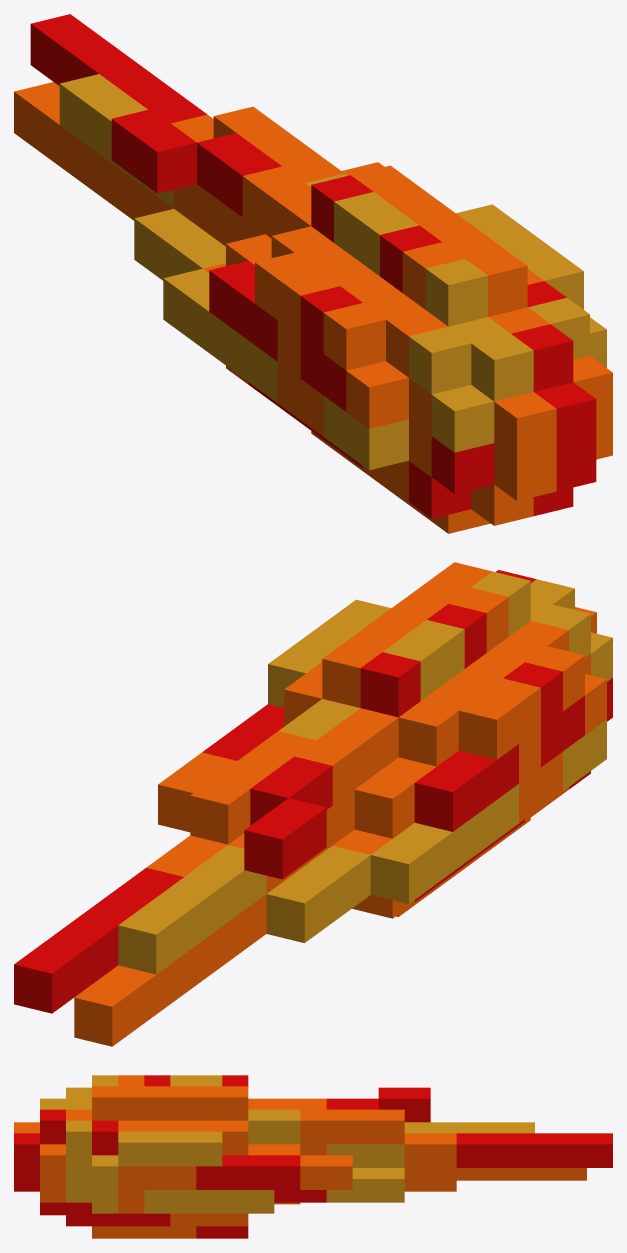
Rendered from Poison(orange).obj.
3 renders of one model, top to bottom at view 1: azimuth 30°, elevation 25°; view 2: azimuth 150°, elevation 25°; view 3: azimuth 270°, elevation 25°, orthographic. The views are drawn at different scales.
Bounding box in the file's own units: 0.6 × 0.6 × 2.3.
Materials: 1 (1 with a texture image).
